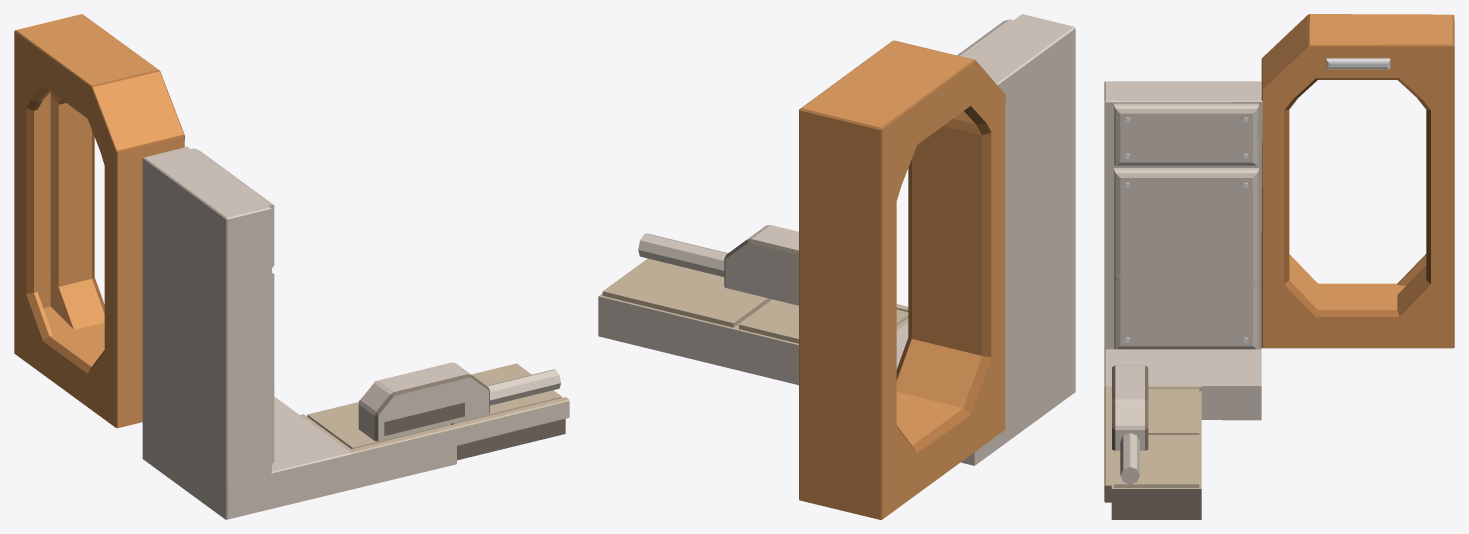
Rendered from tile5.fbx.
3 views of the same model, side by side, from view 1: azimuth 30°, elevation 25°; view 2: azimuth 150°, elevation 25°; view 3: azimuth 270°, elevation 25° (orthographic). The views are drawn at different scales.
Visible parts, largest first — view 1: Tile5MainP1, Doorway, Tile5MainP2, PipelineP2, PipelineP3; view 2: Doorway, Tile5MainP1, Tile5MainP2, PipelineP2, PipelineP3; view 3: Tile5MainP1, Doorway, Tile5MainP2, PipelineP2, PipelineP3.
Boxes of the visible parts, x1,y1,x2,y2 form: Tile5MainP1: (142,146,351,519); Doorway: (14,14,184,428); Tile5MainP2: (300,363,569,489); PipelineP2: (358,362,489,441); PipelineP3: (487,369,560,405); Doorway: (799,40,1005,519); Tile5MainP1: (896,14,1075,465); Tile5MainP2: (598,258,908,385); PipelineP2: (724,225,798,305); PipelineP3: (638,233,727,276); Tile5MainP1: (1104,81,1262,420); Doorway: (1261,14,1454,348); Tile5MainP2: (1104,386,1201,519); PipelineP2: (1112,365,1148,450); PipelineP3: (1120,433,1139,484).
Bounding box in the file's own units: 163 × 153 × 143.
